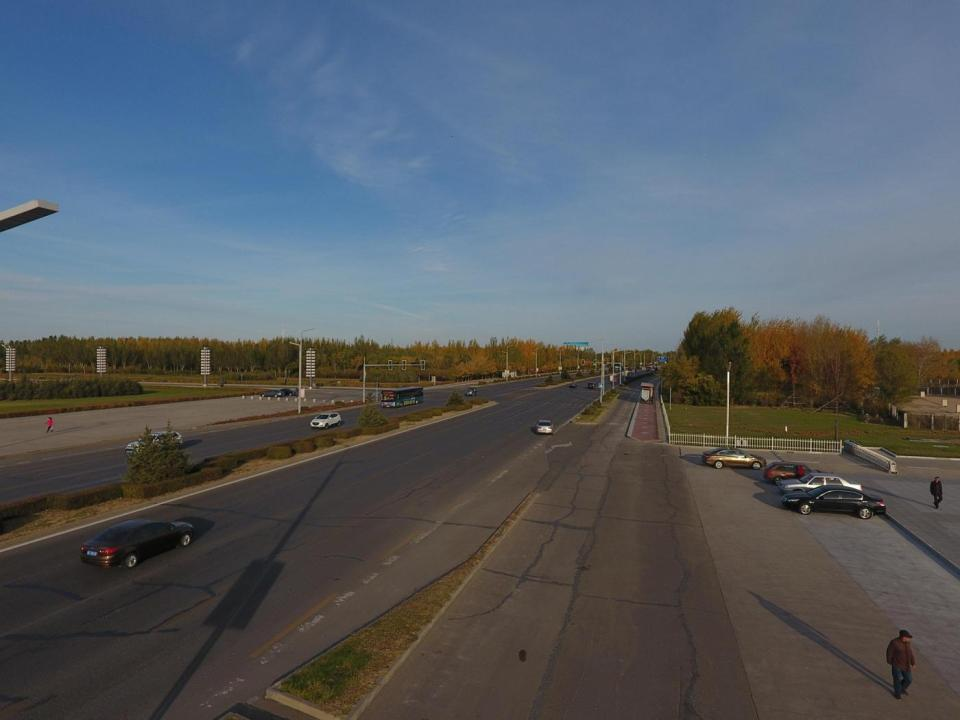bus: (378, 385, 424, 409)
car: (80, 519, 196, 569), (781, 484, 887, 520), (778, 473, 864, 496), (702, 443, 767, 470), (124, 430, 184, 458), (760, 461, 832, 484), (309, 411, 344, 430), (534, 418, 554, 436), (276, 388, 297, 398), (259, 389, 285, 397), (464, 387, 478, 397), (587, 382, 597, 390), (569, 382, 578, 389)
